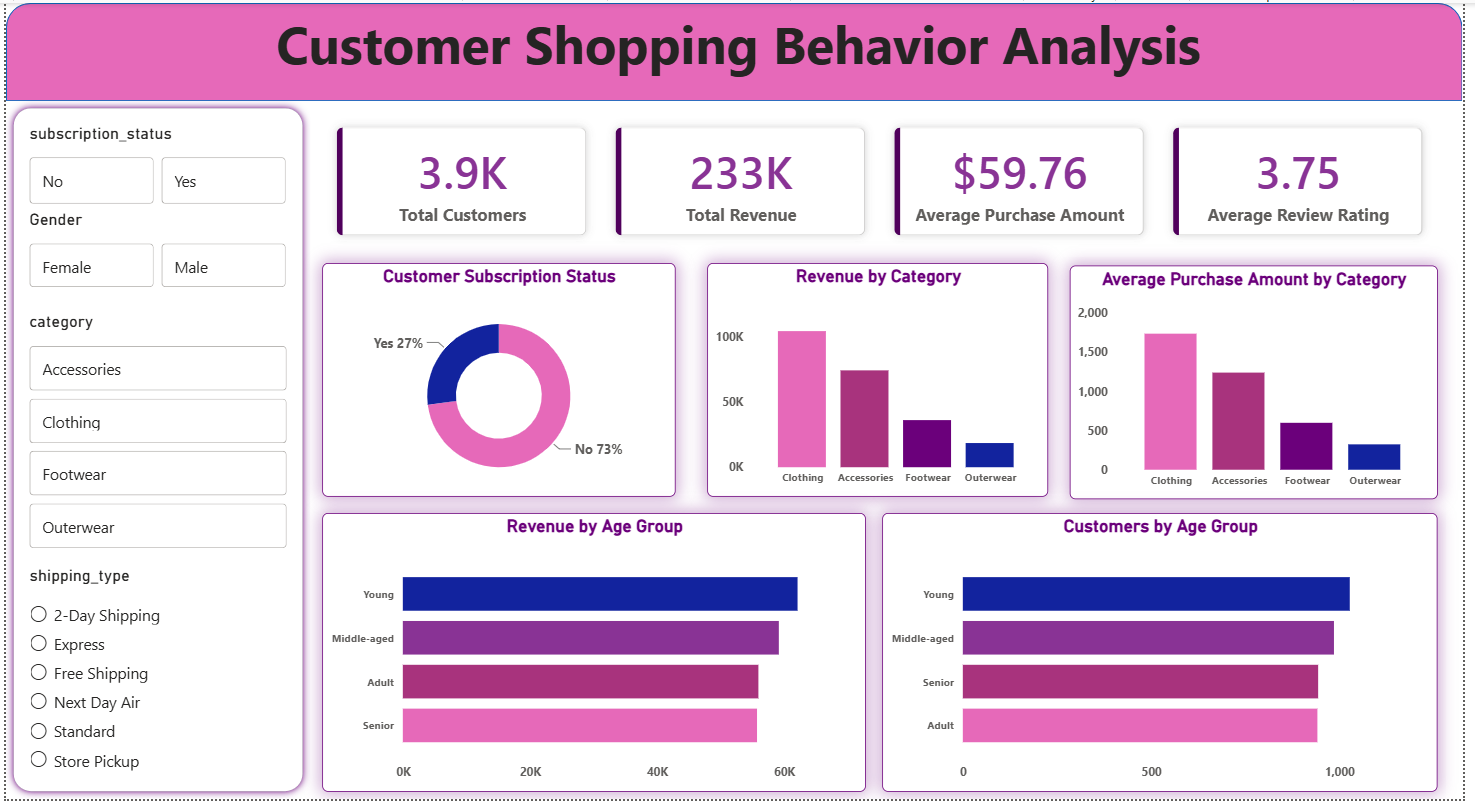

The dashboard page shown, as its layout file describes it:
{"tool":"powerbi","page":{"name":"Page 1","canvas":[1500,820],"ordinal":0},"visuals":[{"type":"cardVisual","fields":{"Data":["public customer.number of customer","public customer.Total Revenue","public customer.average purchase amount","public customer.average review rating"]},"box":[313.4,100.8,1177.3,167.6],"z":0},{"type":"shape","box":[0,0,1500.3,100.8],"z":1000},{"type":"textbox","box":[19.3,0,1470.5,100.4],"z":2000},{"type":"donutChart","title":"Customer Subscription Status","fields":{"Category":["public customer.subscription_status"],"Y":["CountNonNull(public customer.customer_id)"]},"box":[325.7,268.4,363.8,241.2],"z":3000},{"type":"clusteredColumnChart","title":"Revenue by Category","fields":{"Category":["public customer.category"],"Y":["Sum(public customer.purchase_amount)"]},"box":[722.2,268.4,351.6,241.2],"z":4000},{"type":"clusteredColumnChart","title":"Average Purchase Amount by Category","fields":{"Category":["public customer.category"],"Y":["CountNonNull(public customer.customer_id)"]},"box":[1095.6,269.8,378.8,241.2],"z":5000},{"type":"shape","box":[0,100.8,313.4,719.5],"z":6000},{"type":"advancedSlicerVisual","fields":{"Values":["public customer.subscription_status"]},"box":[19.1,124,275.3,88.6],"z":7000},{"type":"advancedSlicerVisual","fields":{"Values":["public customer.gender"]},"box":[19.1,212.6,275.3,85.8],"z":8000},{"type":"advancedSlicerVisual","fields":{"Values":["public customer.category"]},"box":[19.1,317.5,275.3,249.4],"z":9000},{"type":"listSlicer","fields":{"Values":["public customer.shipping_type"]},"box":[19.1,579.1,252.1,223.5],"z":10000},{"type":"clusteredBarChart","title":"Revenue by Age Group","fields":{"Category":["public customer.age_groups"],"Y":["Sum(public customer.purchase_amount)"]},"box":[325.7,526,560,287.5],"z":11000},{"type":"clusteredBarChart","title":"Customers by Age Group","fields":{"Category":["public customer.age_groups"],"Y":["CountNonNull(public customer.customer_id)"]},"box":[902.1,526,572.3,287.5],"z":12000}]}

Visuals, with their boxes in screenshot pixels (x1, y1, x2, y2), scaled from the page's 1500x820 canvas onto the 1475x802 screenshot:
cardVisual - public customer.number of customer x public customer.Total Revenue: box(308, 99, 1466, 263)
shape: box(0, 0, 1474, 99)
textbox: box(19, 0, 1465, 98)
"Customer Subscription Status" donutChart: box(320, 263, 678, 498)
"Revenue by Category" clusteredColumnChart: box(710, 263, 1056, 498)
"Average Purchase Amount by Category" clusteredColumnChart: box(1077, 264, 1450, 500)
shape: box(0, 99, 308, 801)
advancedSlicerVisual - public customer.subscription_status: box(19, 121, 289, 208)
advancedSlicerVisual - public customer.gender: box(19, 208, 289, 292)
advancedSlicerVisual - public customer.category: box(19, 311, 289, 554)
listSlicer - public customer.shipping_type: box(19, 566, 267, 785)
"Revenue by Age Group" clusteredBarChart: box(320, 514, 871, 796)
"Customers by Age Group" clusteredBarChart: box(887, 514, 1450, 796)
